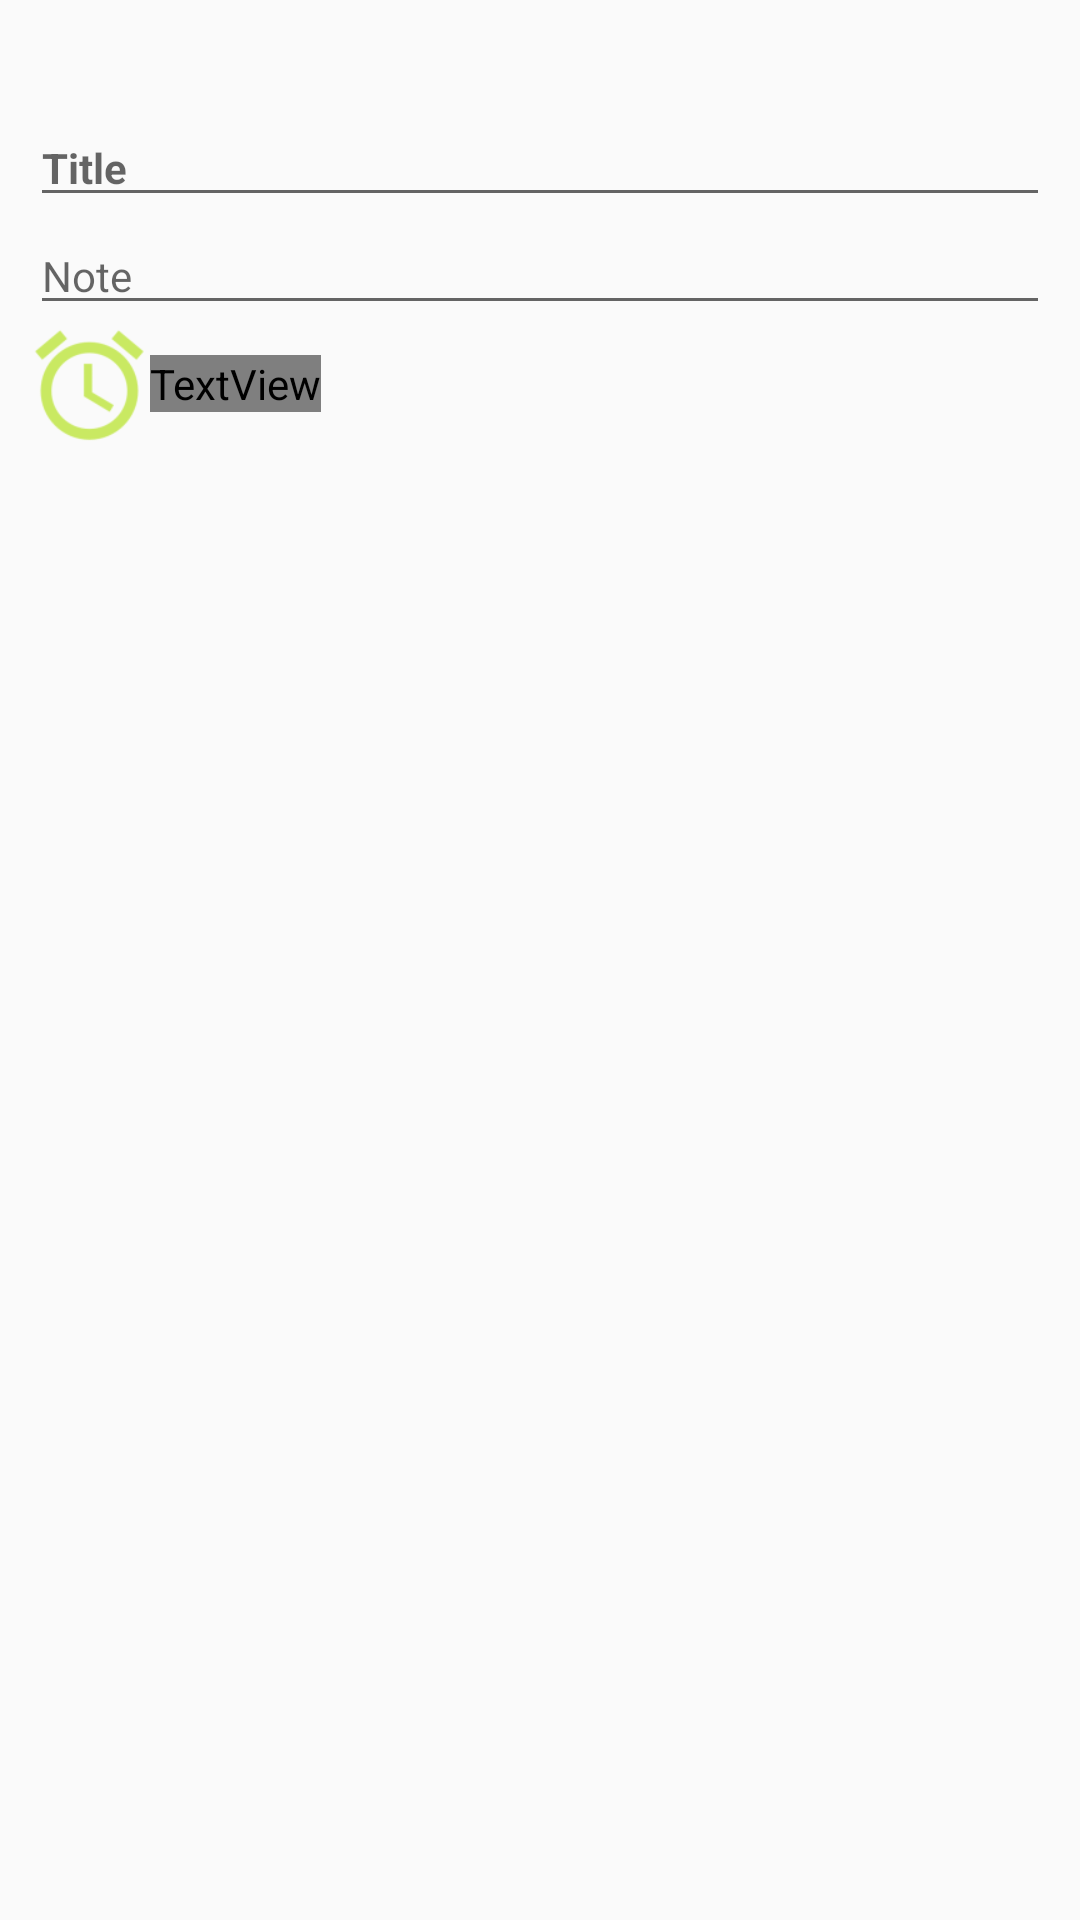

Named icons in this screenshot (1080px x 1920px) and their bounding boxes, (x1, y1, x2, y2):
clock: (35, 330, 144, 440)
